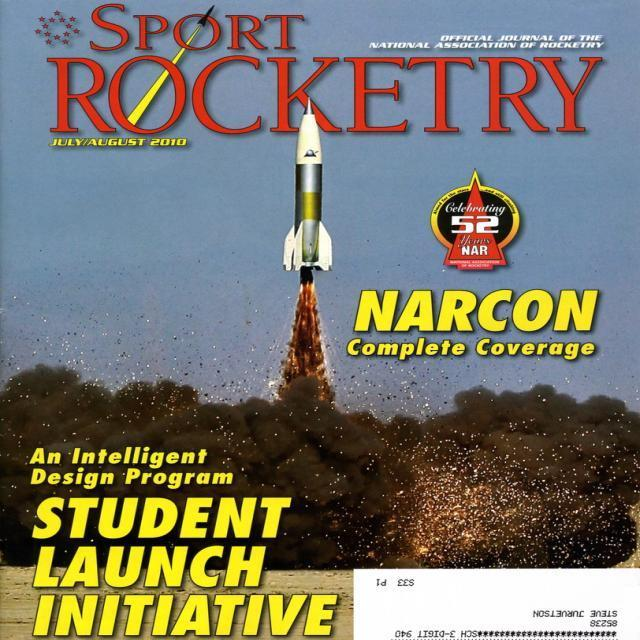missile: (291, 91, 324, 282)
